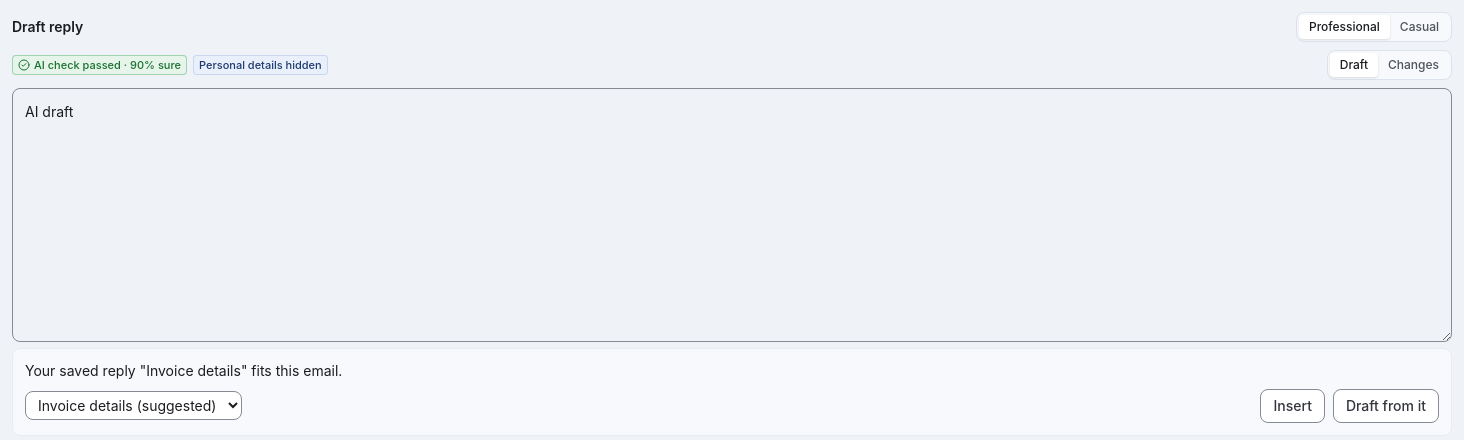
Test: inserting over typed changes asks first and keeps them until the reader agrees
The width and height of the screenshot is (1464, 440).
Check: the button "Insert" is shown, box left=1260, top=388, right=1325, bottom=422
Type " plus mine" into the text box named "Draft reply". click: (732, 215)
box: left=12, top=88, right=1452, bottom=342
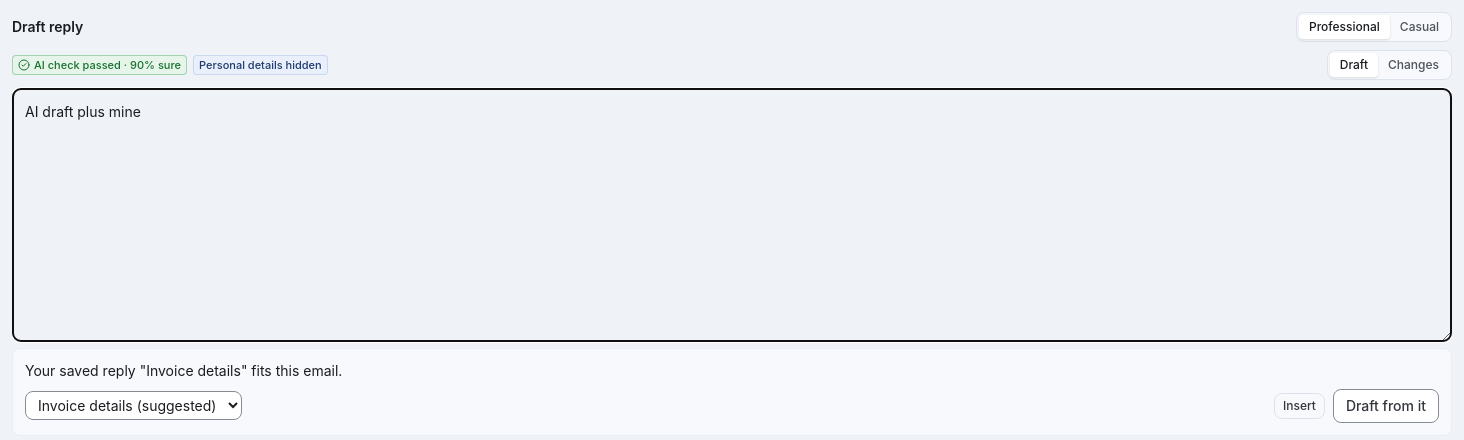
Click the button "Insert". click: (1299, 406)
box: left=1274, top=392, right=1325, bottom=418
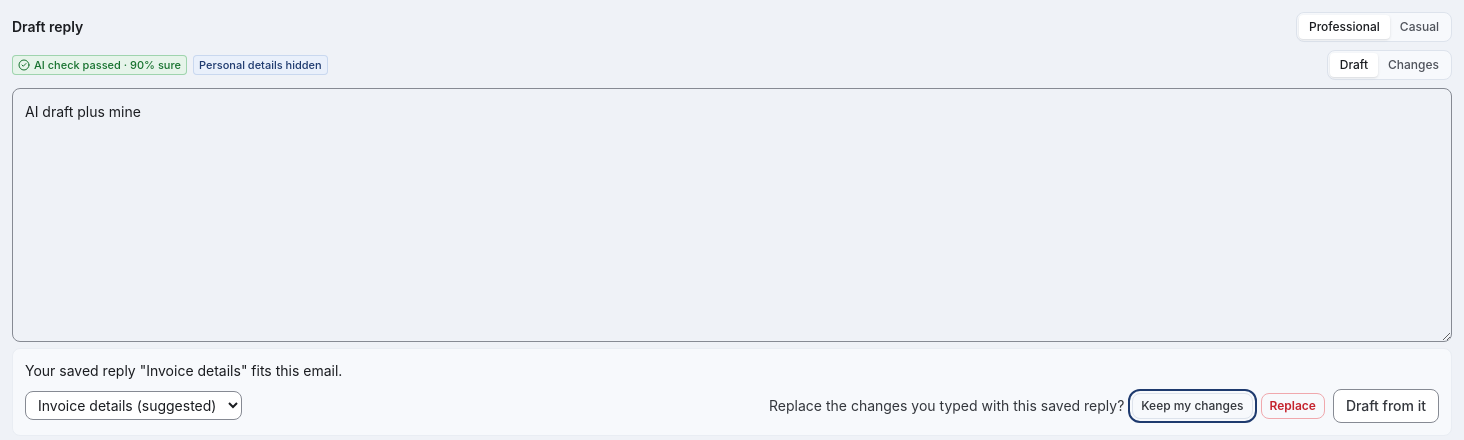
Check: the text box named "Draft reply" holds "AI draft plus mine", box left=12, top=88, right=1452, bottom=342
Check: the text "Replace the changes you typed with this saved reply?" is shown, box left=769, top=396, right=1124, bottom=416
